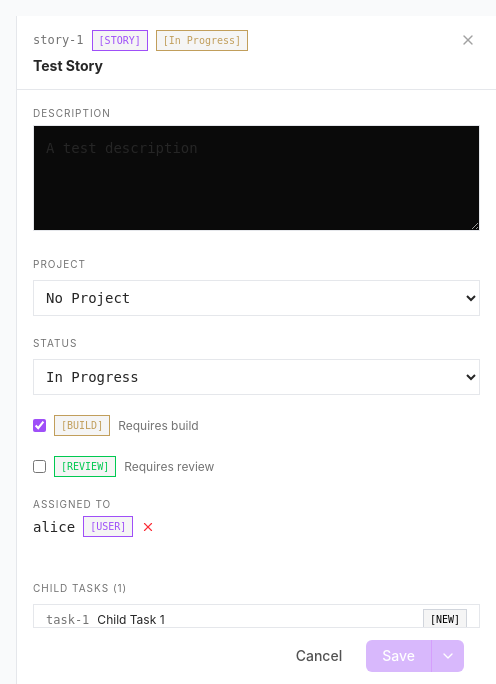
Scenario: StoryDetail › editing and mutations › edits title via EditableTitle
# Click on the title button to start editing
Click the button "Test Story".
click(68, 66)  # box [33, 56, 480, 76]
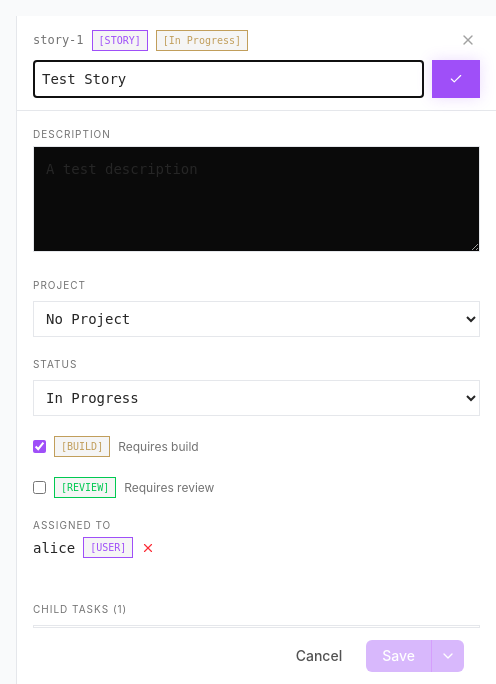
# An input should appear
Replace the text in the field showing "Test Story" with "Updated Title" at [228, 79], box [33, 60, 424, 98]
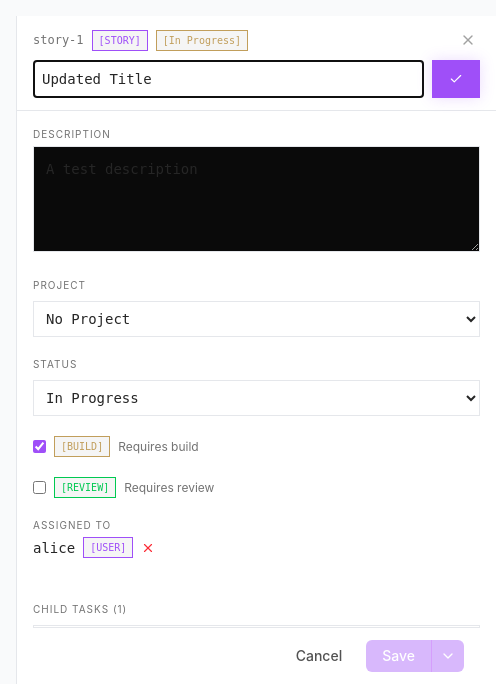
# Click the checkmark (save) button - use container query to find the one in EditableTitle
Click the button with class "glow-button".
click(456, 79)  # box [432, 60, 480, 98]
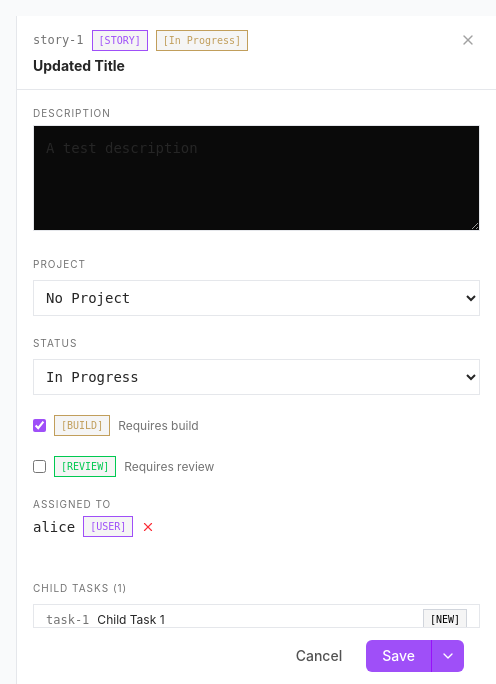
Now the button "Save" is enabled, box [366, 640, 431, 672]
